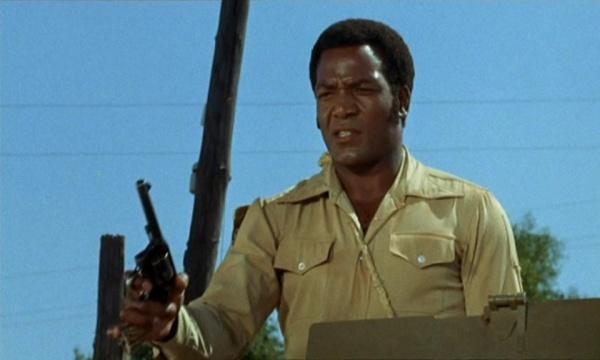Gun: (125, 177, 181, 342)
